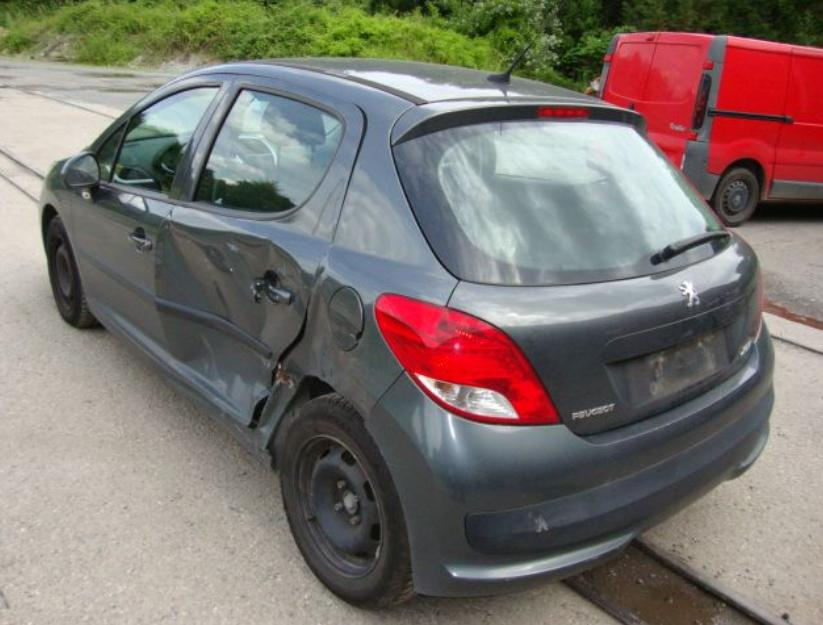Back-bumper: (366, 325, 777, 600)
Back-door: (158, 74, 364, 425)
Back-wheel: (266, 393, 414, 615)
Back-window: (191, 90, 342, 222)
Back-windshield: (393, 119, 733, 287)
Fender: (38, 158, 71, 236)
Front-door: (69, 73, 235, 357)
Front-wheel: (43, 215, 104, 330)
Front-window: (98, 89, 216, 191)
Mirror: (60, 152, 99, 189)
Quarter-panel: (257, 246, 458, 447)
Rocker-panel: (86, 301, 270, 464)
Roof: (175, 56, 611, 140)
Tail-light: (374, 292, 563, 424)
Trunk: (449, 230, 762, 439), (392, 98, 647, 145)
